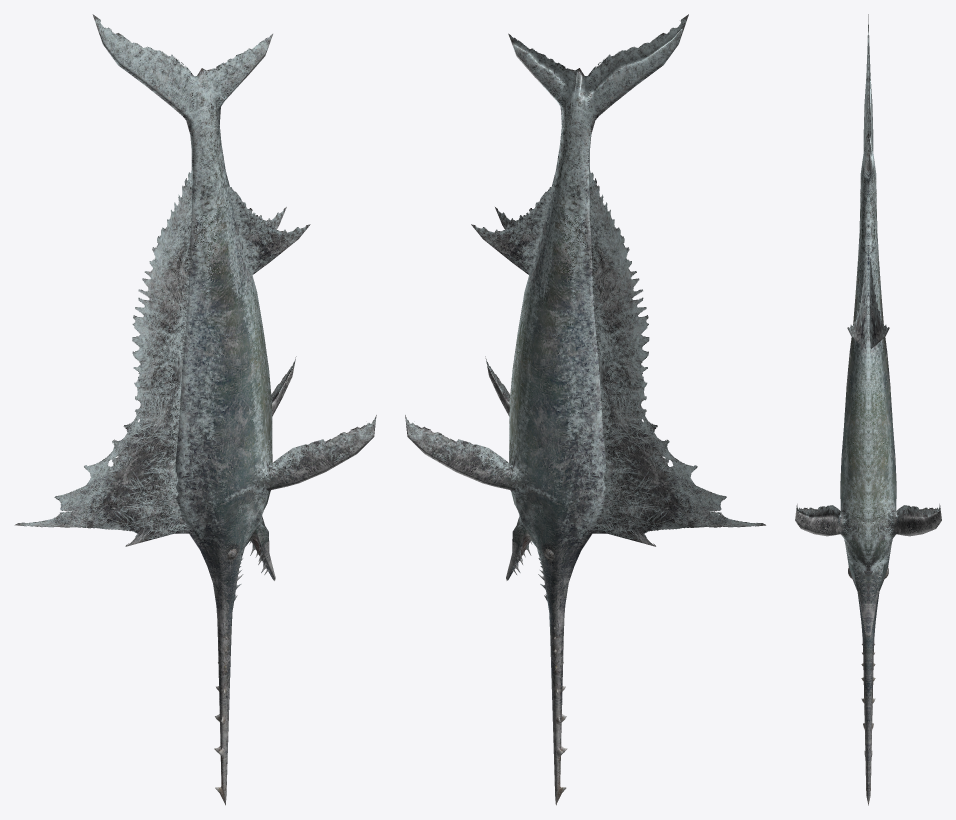
The model's file is two025.obj.
The picture shows the model from 3 angles, left to right: view 1: azimuth 30°, elevation 25°; view 2: azimuth 150°, elevation 25°; view 3: azimuth 270°, elevation 25°; orthographic projection. The views are drawn at different scales.
Parts seen in each view (by area): view 1: two025_000_LOD_1; view 2: two025_000_LOD_1; view 3: two025_000_LOD_1.
Part boxes in pixels (x1=…): two025_000_LOD_1: x1=14, y1=14, x2=376, y2=805; two025_000_LOD_1: x1=405, y1=14, x2=765, y2=805; two025_000_LOD_1: x1=795, y1=14, x2=941, y2=805.
Bounding box in the file's own units: 121 × 297 × 53.84.
